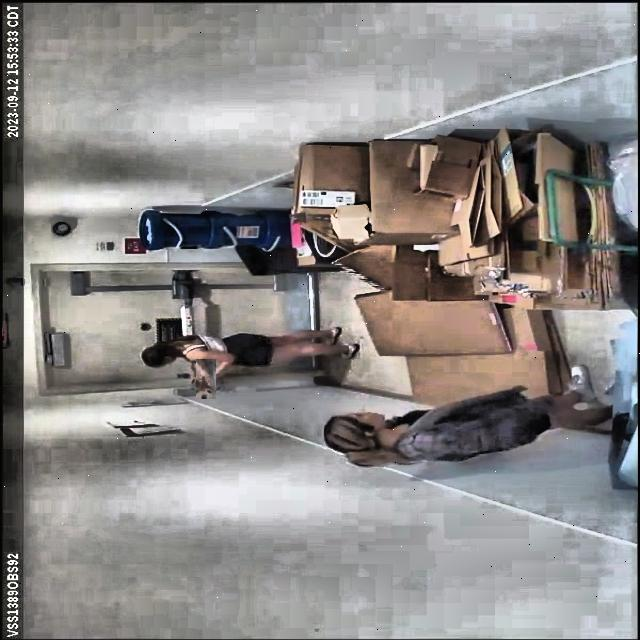not-gloved: (190, 362, 222, 392)
